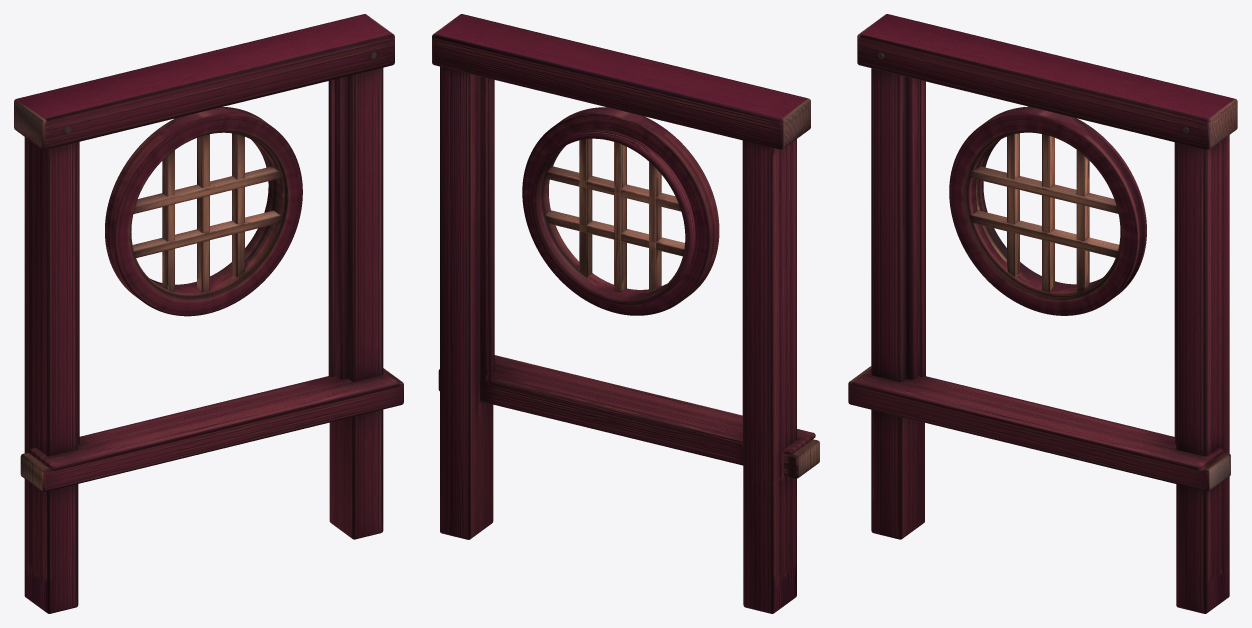
File: window-timber-textured.glb
3 renders of one model, left to right at view 1: azimuth 30°, elevation 25°; view 2: azimuth 150°, elevation 25°; view 3: azimuth 330°, elevation 25°, orthographic.
Size of the model in its own units: 1.51 by 2 by 0.2692.
Materials: 1 (1 with a texture image).
